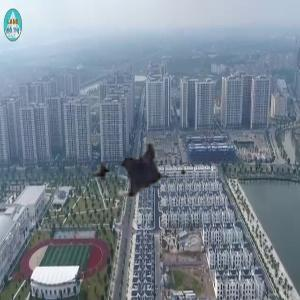drone: (80, 94, 212, 226)
